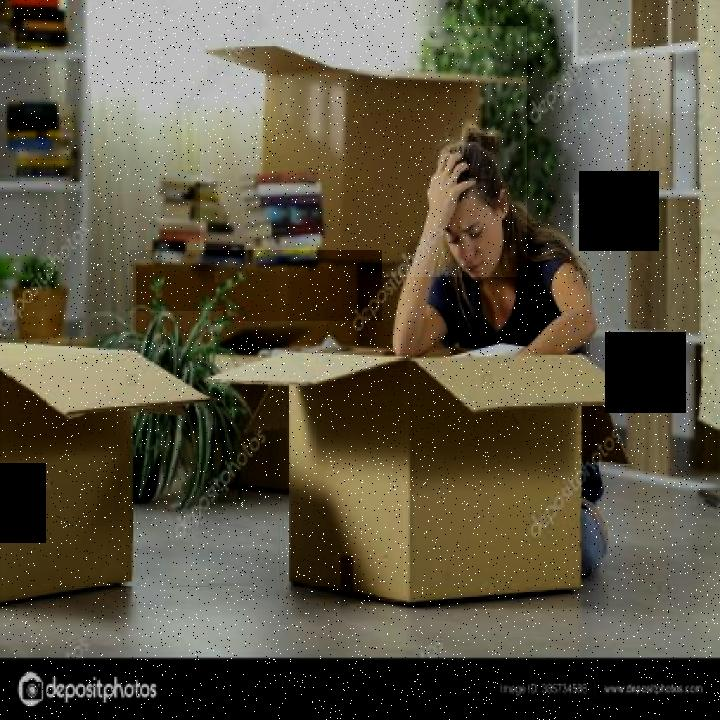box: (198, 321, 654, 645), (200, 26, 527, 277), (2, 311, 223, 644), (129, 250, 382, 513)
